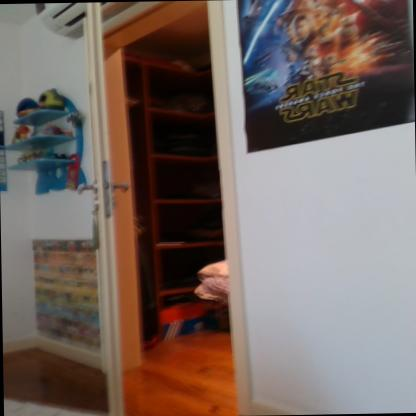semi: (81, 0, 235, 405)
